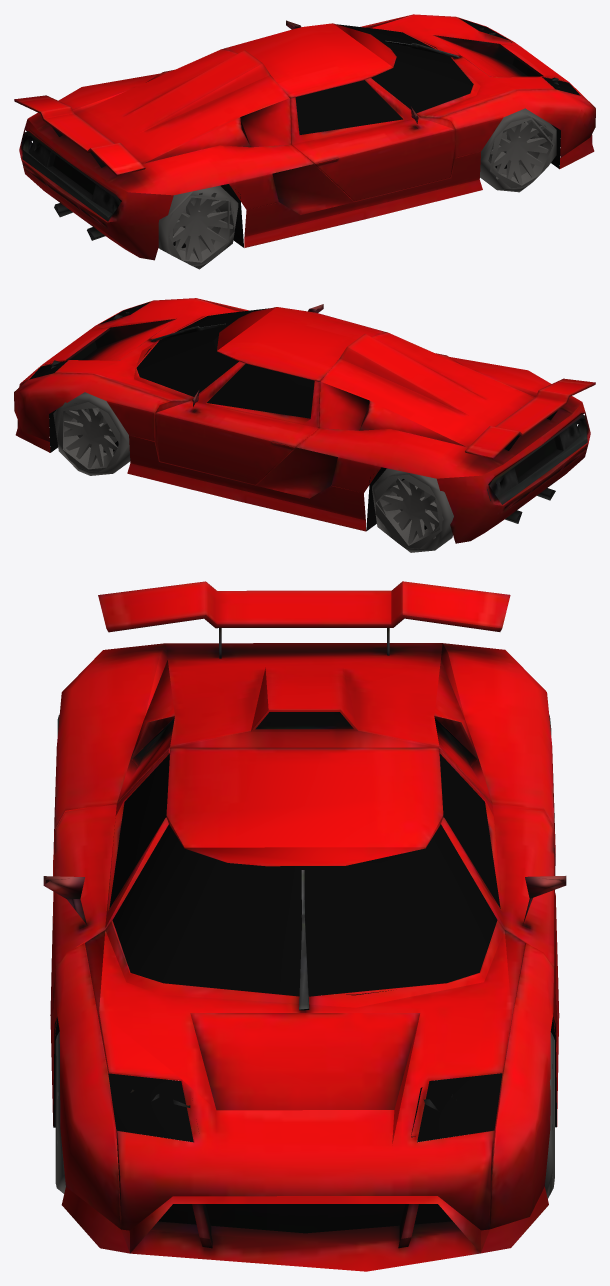
The model's file is pc-sport.lod1.glb.
3 renders of one model, top to bottom at view 1: azimuth 30°, elevation 25°; view 2: azimuth 150°, elevation 25°; view 3: azimuth 270°, elevation 25°, orthographic. The views are drawn at different scales.
Parts seen in each view (by area): view 1: Sport body_Body_0, Wheel_H_Wheel_0; view 2: Sport body_Body_0, Wheel_H_Wheel_0; view 3: Sport body_Body_0, Wheel_H_Wheel_0.
Part boxes in pixels (left/top/right/bottom): Sport body_Body_0: left=14, top=14, right=595, bottom=260; Wheel_H_Wheel_0: left=158, top=18, right=580, bottom=269; Sport body_Body_0: left=14, top=298, right=595, bottom=543; Wheel_H_Wheel_0: left=29, top=302, right=453, bottom=552; Sport body_Body_0: left=43, top=581, right=566, bottom=1271; Wheel_H_Wheel_0: left=55, top=715, right=554, bottom=1198.
Bounding box in the file's own units: 3.89 × 1.04 × 1.74.
Materials: 2 (1 with a texture image).
